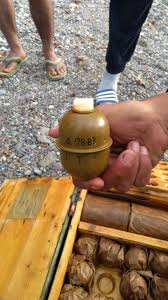e1: (57, 97, 113, 176)
